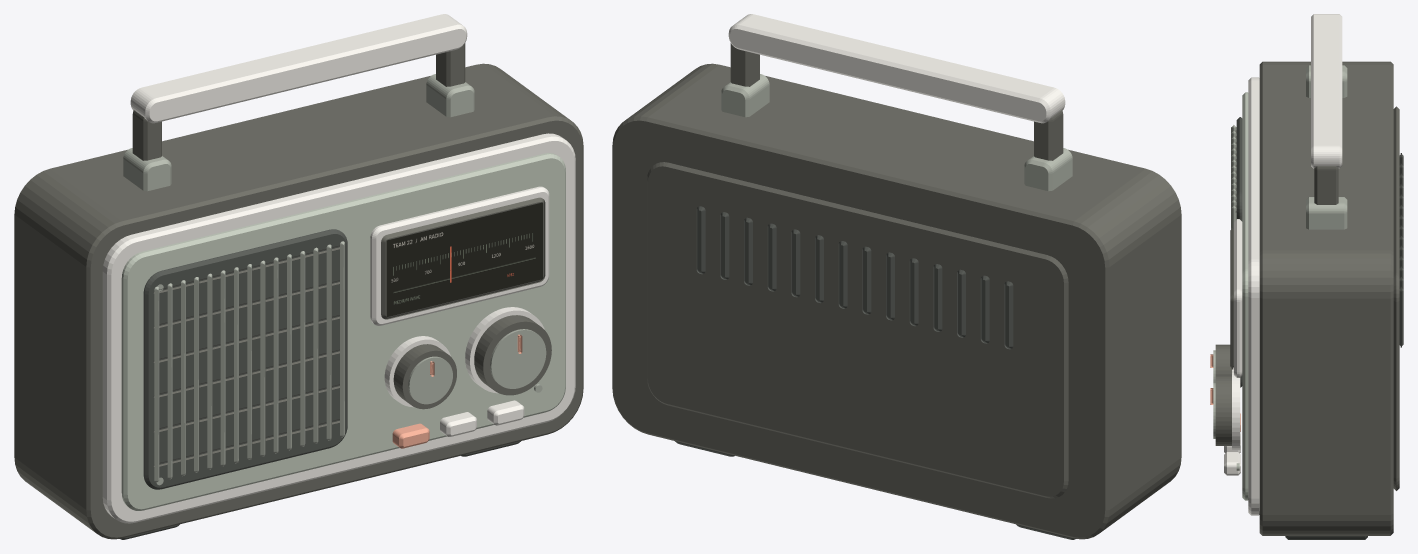
File: RadioVintage.glb
3 renders of one model, left to right at view 1: azimuth 30°, elevation 25°; view 2: azimuth 150°, elevation 25°; view 3: azimuth 270°, elevation 25°, orthographic. The views are drawn at different scales.
Visible parts, largest first — view 1: Rounded charcoal cabinet, Sage front inset, Speaker grille dark backing, Ivory faceplate, Ivory carry handle, Frequency scale, Tuning window ivory surround, Sage knob face (×2), Charcoal tuning knob (×2), Handle mount (×2), Ivory control surround (×2), Carry handle upright (×2) (+17 smaller); view 2: Rounded charcoal cabinet, Rear service panel, Ivory carry handle, Rear ventilation slot (×9), Handle mount (×2), Carry handle upright (×2); view 3: Rounded charcoal cabinet, Ivory faceplate, Ivory carry handle, Sage front inset, Rear service panel, Charcoal tuning knob (×2), Handle mount (×2), Tuning window ivory surround, Carry handle upright, Speaker grille dark backing, Ivory control surround, Tuning glass bezel (+3 smaller).
Part boxes in pixels (x1=…): Rounded charcoal cabinet: x1=14, y1=63, x2=583, y2=539; Sage front inset: x1=121, y1=153, x2=565, y2=510; Speaker grille dark backing: x1=143, y1=229, x2=347, y2=489; Ivory faceplate: x1=102, y1=133, x2=575, y2=523; Ivory carry handle: x1=130, y1=14, x2=467, y2=123; Frequency scale: x1=386, y1=202, x2=542, y2=316; Tuning window ivory surround: x1=370, y1=186, x2=549, y2=325; Sage knob face (×2): x1=408, y1=329, x2=546, y2=404; Charcoal tuning knob (×2): x1=393, y1=315, x2=551, y2=409; Handle mount (×2): x1=123, y1=74, x2=474, y2=191; Ivory control surround (×2): x1=384, y1=307, x2=544, y2=407; Carry handle upright (×2): x1=132, y1=43, x2=465, y2=160; Rounded charcoal cabinet: x1=612, y1=63, x2=1181, y2=539; Rear service panel: x1=647, y1=162, x2=1068, y2=498; Ivory carry handle: x1=728, y1=14, x2=1065, y2=123; Rear ventilation slot (×9): x1=696, y1=206, x2=1013, y2=349; Handle mount (×2): x1=721, y1=74, x2=1072, y2=191; Carry handle upright (×2): x1=730, y1=43, x2=1063, y2=160; Rounded charcoal cabinet: x1=1259, y1=61, x2=1393, y2=535; Ivory faceplate: x1=1248, y1=77, x2=1259, y2=515; Ivory carry handle: x1=1311, y1=14, x2=1342, y2=168; Sage front inset: x1=1242, y1=92, x2=1248, y2=500; Rear service panel: x1=1393, y1=106, x2=1399, y2=490; Charcoal tuning knob (×2): x1=1215, y1=344, x2=1231, y2=445; Handle mount (×2): x1=1306, y1=65, x2=1347, y2=229; Tuning window ivory surround: x1=1234, y1=219, x2=1242, y2=377; Carry handle upright: x1=1314, y1=166, x2=1338, y2=204; Speaker grille dark backing: x1=1236, y1=117, x2=1242, y2=387; Ivory control surround: x1=1232, y1=371, x2=1240, y2=450; Tuning glass bezel: x1=1230, y1=227, x2=1233, y2=369.
Bounding box in the file's own units: 2.1 × 1.69 × 0.7935.
7 materials, 1 textured.
